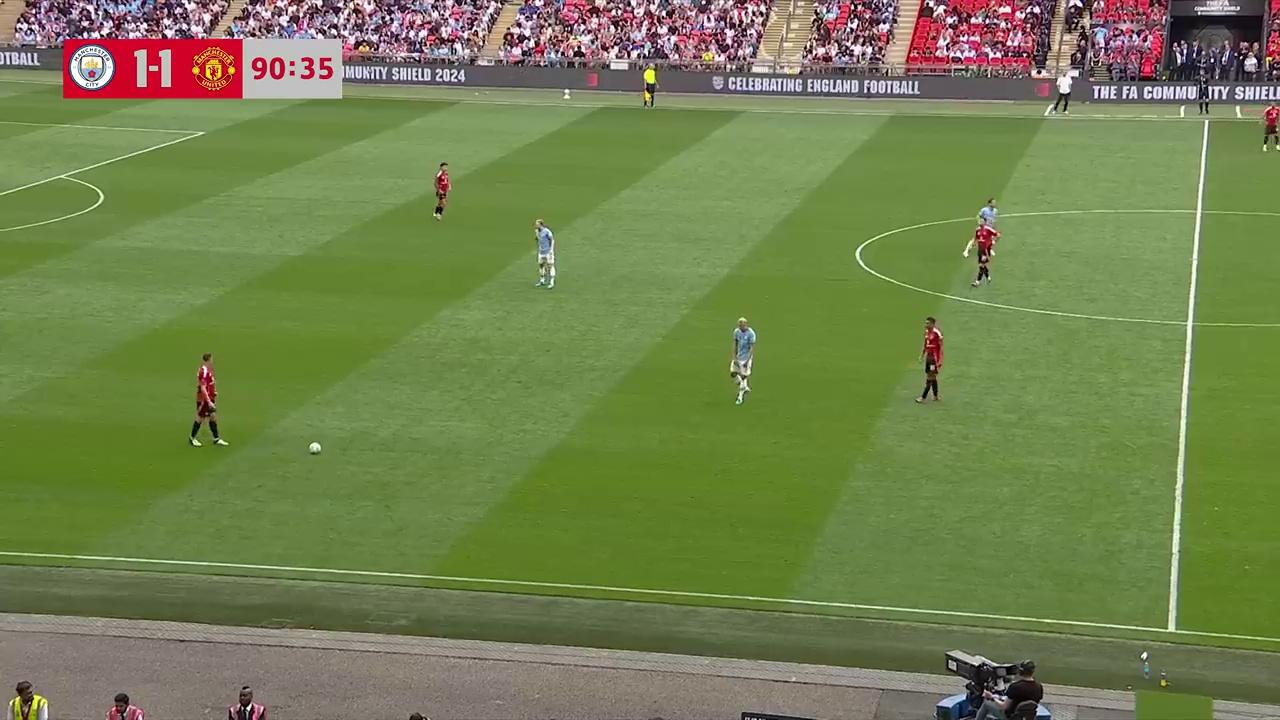ball: (308, 438, 321, 455)
player: (189, 352, 228, 448), (966, 218, 999, 286), (918, 316, 943, 402), (731, 317, 755, 404), (533, 218, 556, 288), (979, 197, 1000, 252), (432, 161, 451, 221), (1260, 103, 1279, 152)
referee: (641, 63, 658, 109)
